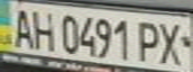0: (54, 10, 81, 55)
1: (112, 16, 136, 61)
4: (75, 12, 96, 56)
9: (93, 15, 115, 60)
A: (6, 4, 36, 50)
H: (27, 7, 57, 52)
P: (133, 18, 163, 64)
X: (154, 18, 190, 66)
